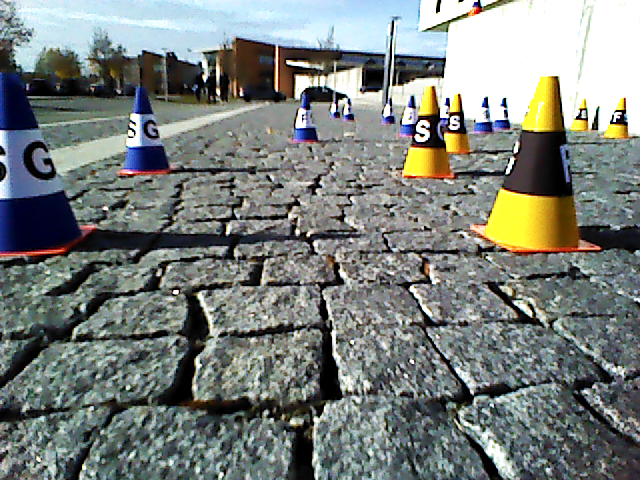bluecone: (1, 70, 79, 251), (123, 87, 168, 170), (293, 95, 319, 140), (474, 97, 493, 132), (400, 96, 417, 135), (494, 98, 511, 128)
yellowcone: (492, 76, 581, 246), (403, 86, 449, 176), (443, 95, 468, 151), (605, 98, 629, 138), (572, 101, 588, 129)
